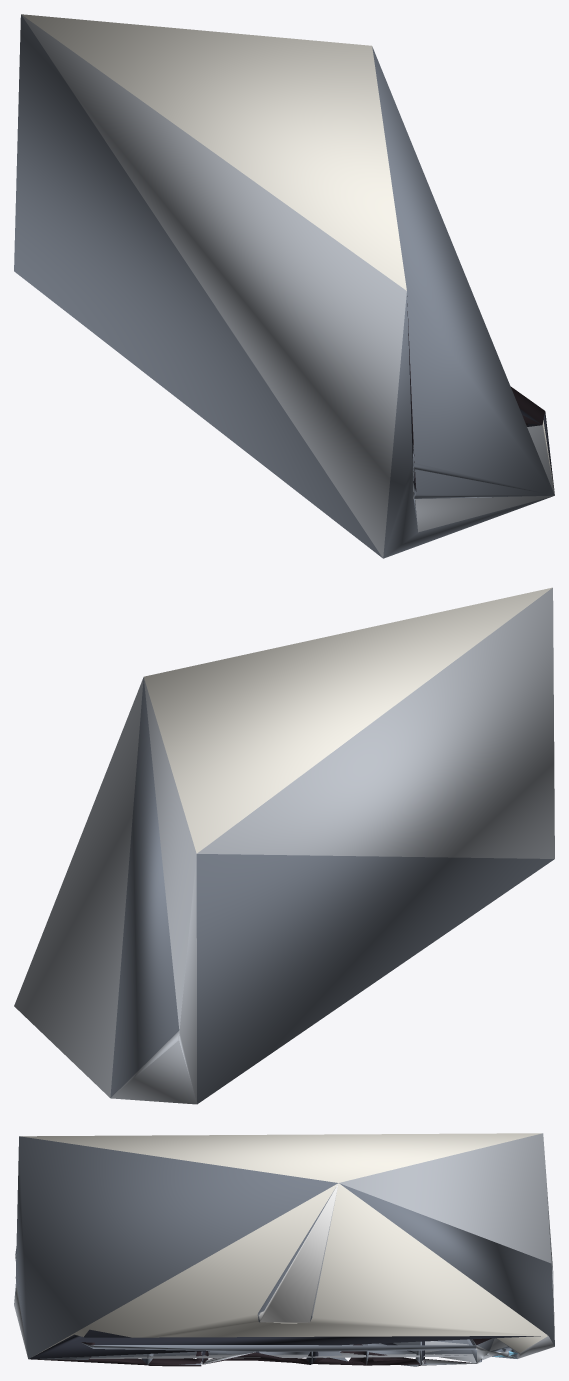
The model's file is SM_ac_indoor_unit.fbx.
3 views of the same model, one above another, from view 1: azimuth 30°, elevation 25°; view 2: azimuth 150°, elevation 25°; view 3: azimuth 270°, elevation 25° (orthographic). The views are drawn at different scales.
Visible parts, largest first — view 1: SM_ac_indoor_unit; view 2: SM_ac_indoor_unit; view 3: SM_ac_indoor_unit.
Part boxes in pixels (x1,y1,x2,y2): SM_ac_indoor_unit: (14, 14, 554, 558); SM_ac_indoor_unit: (14, 587, 554, 1104); SM_ac_indoor_unit: (14, 1133, 554, 1366).
Size of the model in its own units: 29.37 by 40 by 94.36.
Materials: 1 (1 with a texture image).
